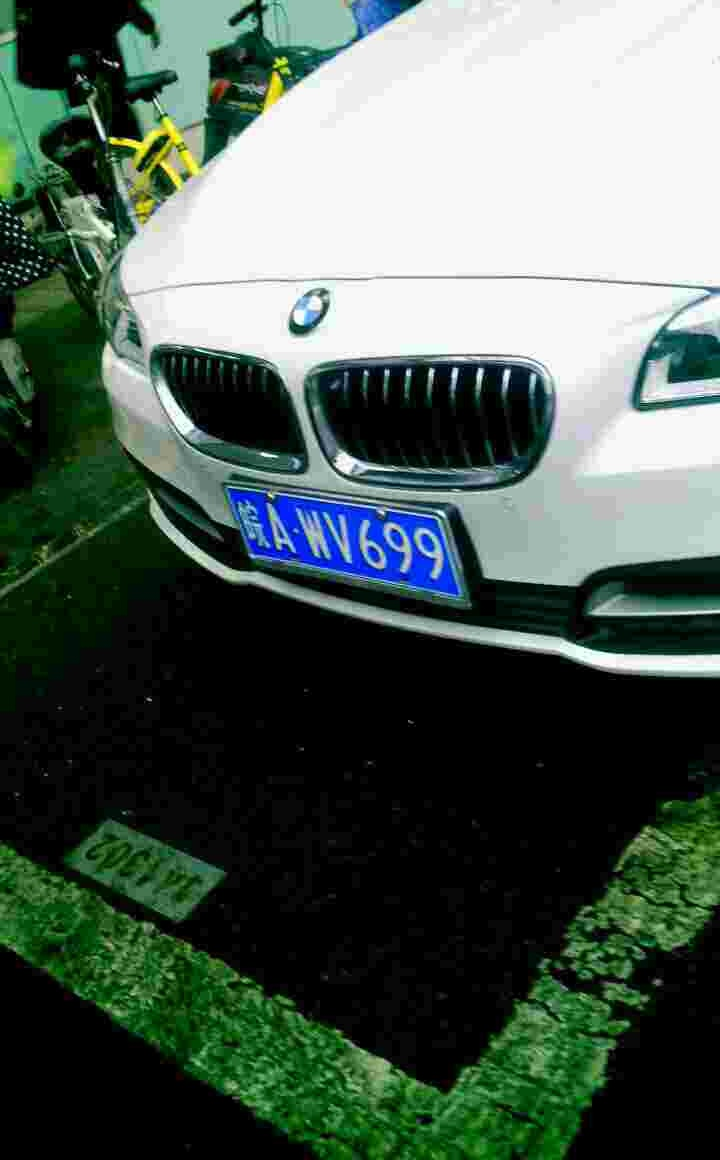license_plate: (234, 485, 462, 601)
